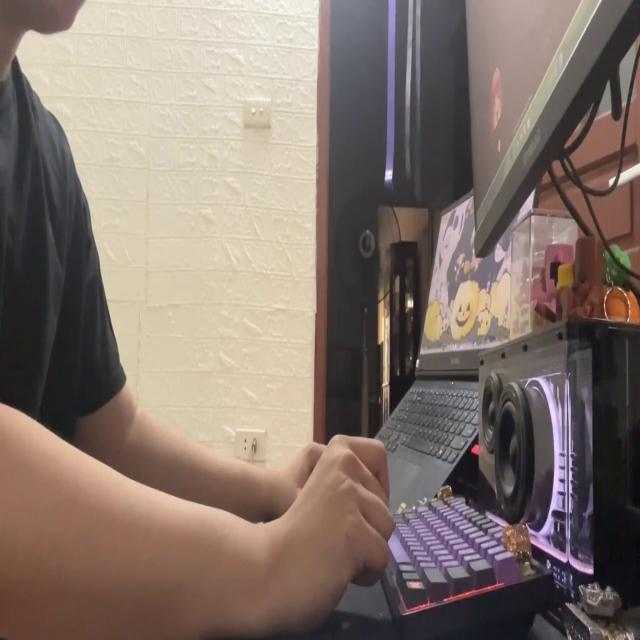laptop: (371, 170, 538, 513), (463, 0, 640, 268)
student: (4, 0, 396, 640)
